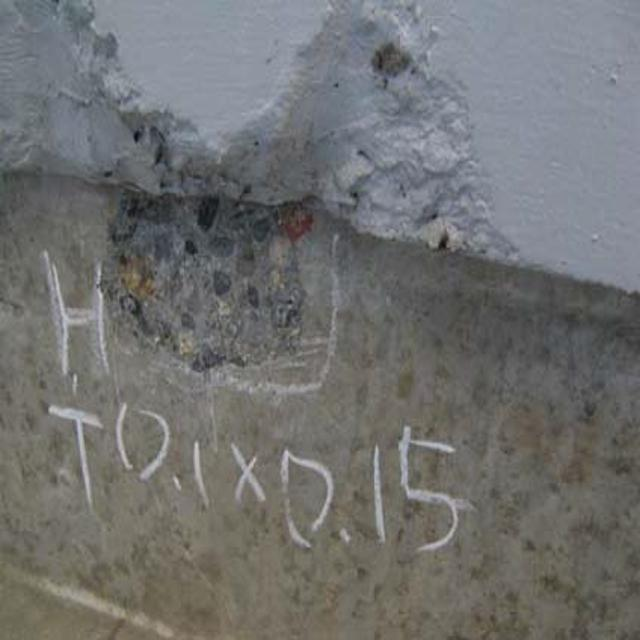spalling: (36, 23, 513, 397)
